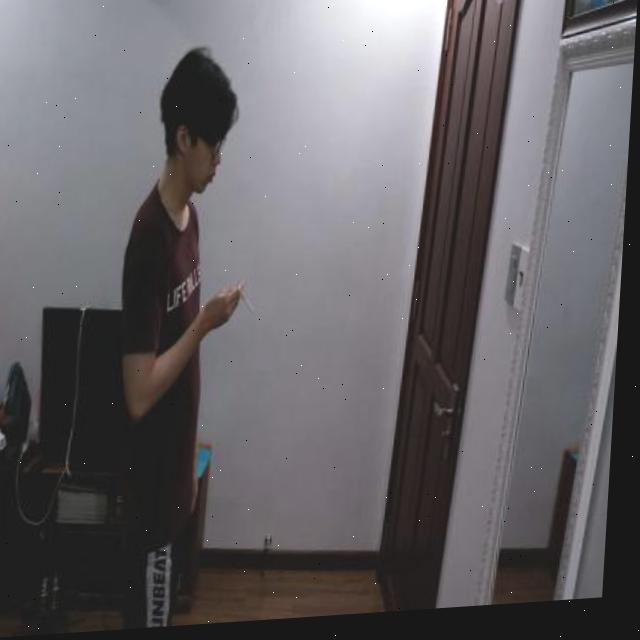cigarette: (243, 295, 259, 319)
